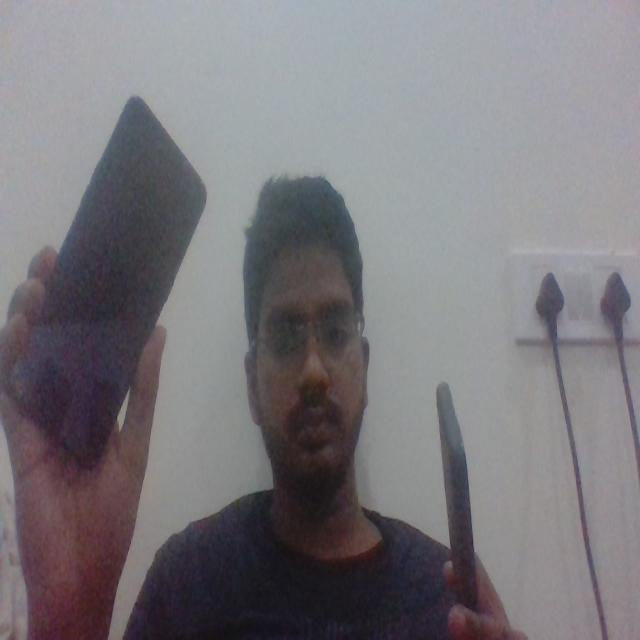Phone: (18, 91, 214, 478), (430, 377, 477, 617)
